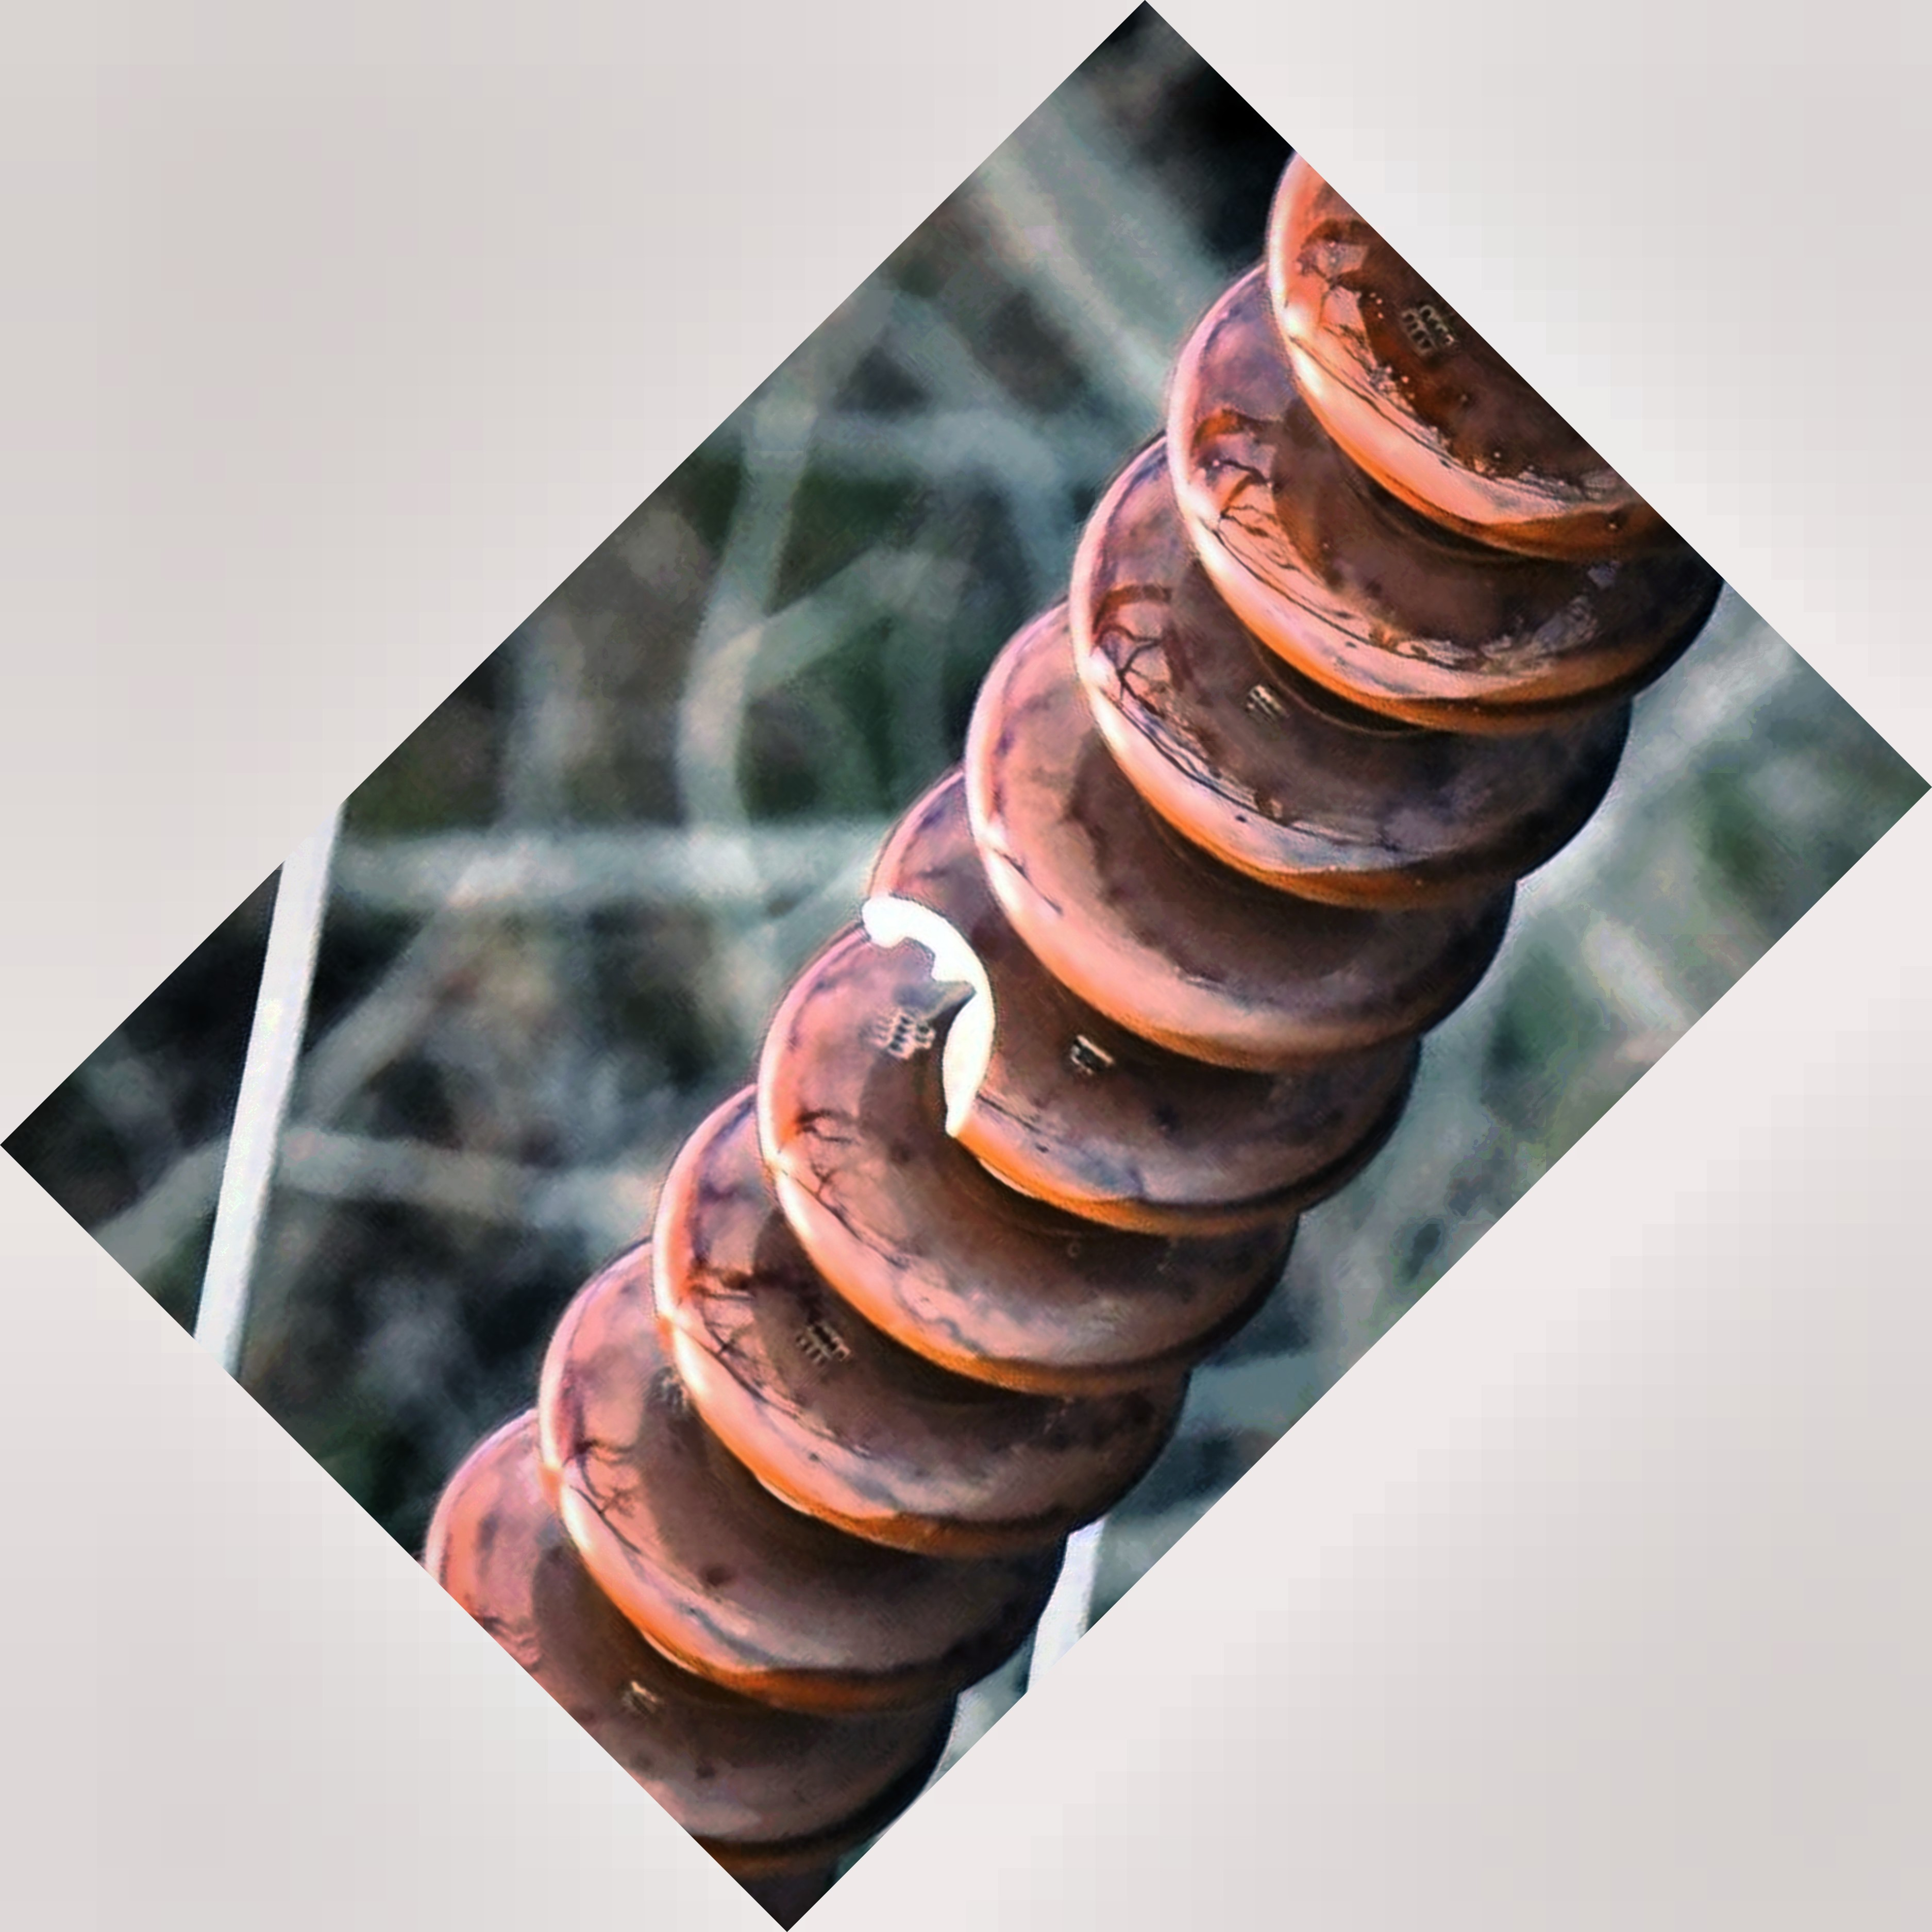insulator breakage: (787, 778, 1431, 1240)
